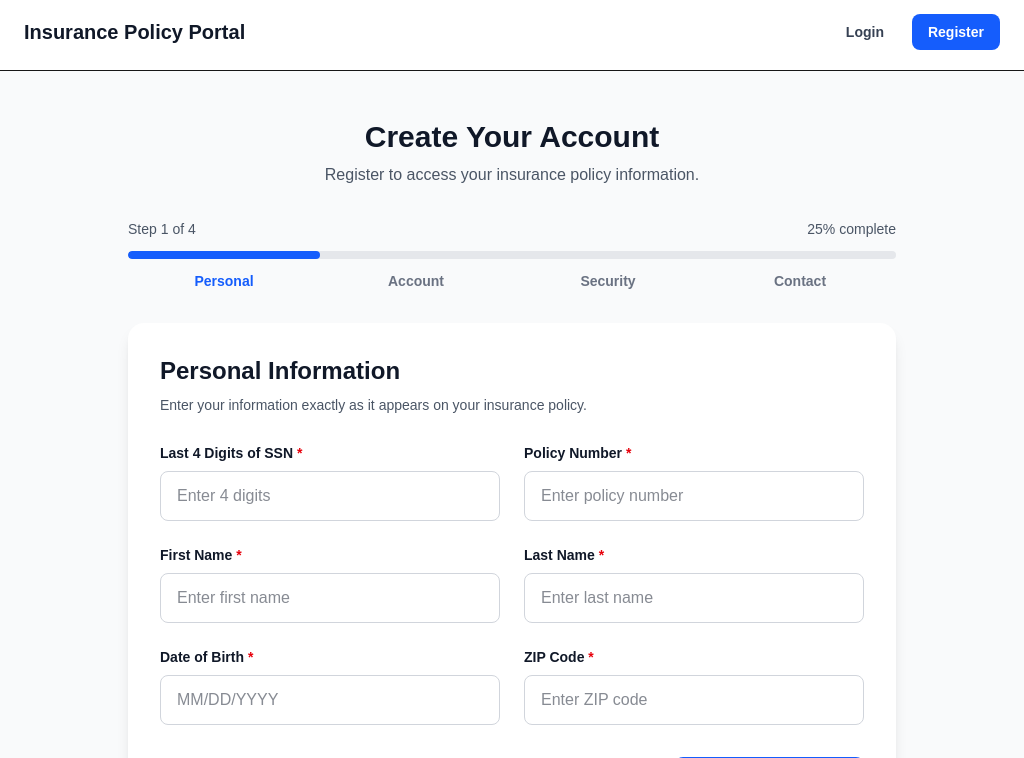
Scenario: RegisterPage - Step 1 › should move to Step 2 after successful policyholder verification
Type "1234" into the field with placeholder "Enter 4 digits" at [330, 496], box [160,471,500,521]
Type "VA6666667" into the field with placeholder "Enter policy number" at [694, 496], box [524,471,864,521]
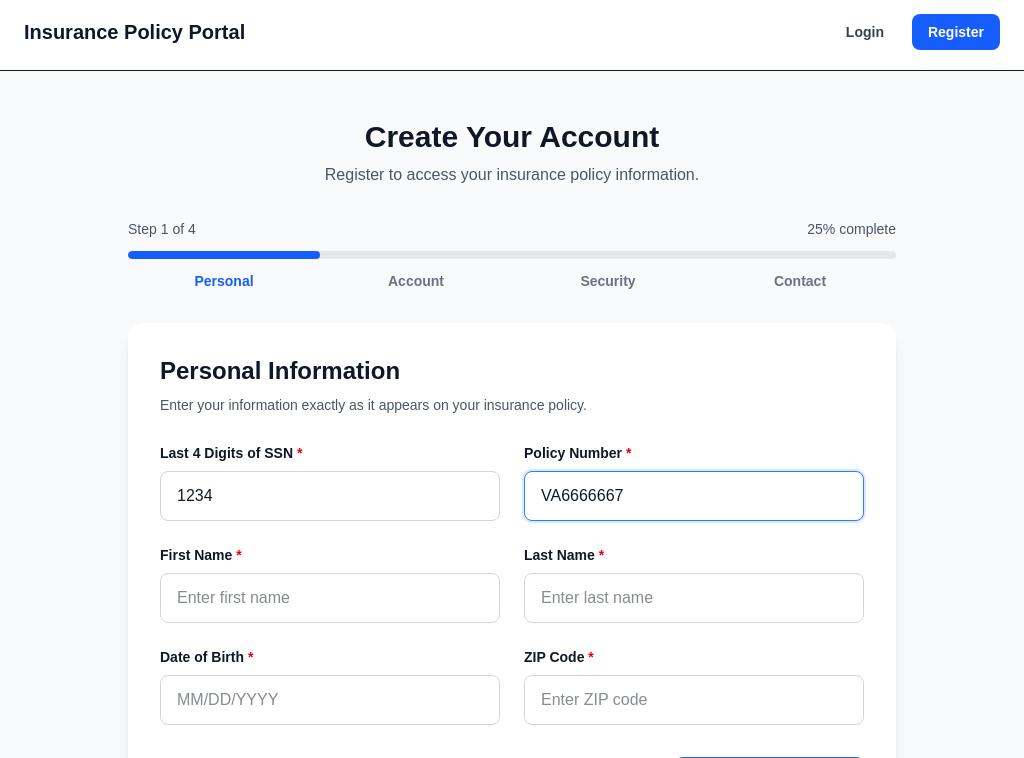
Type "John" into the field with placeholder "Enter first name" at [330, 598], box [160,573,500,623]
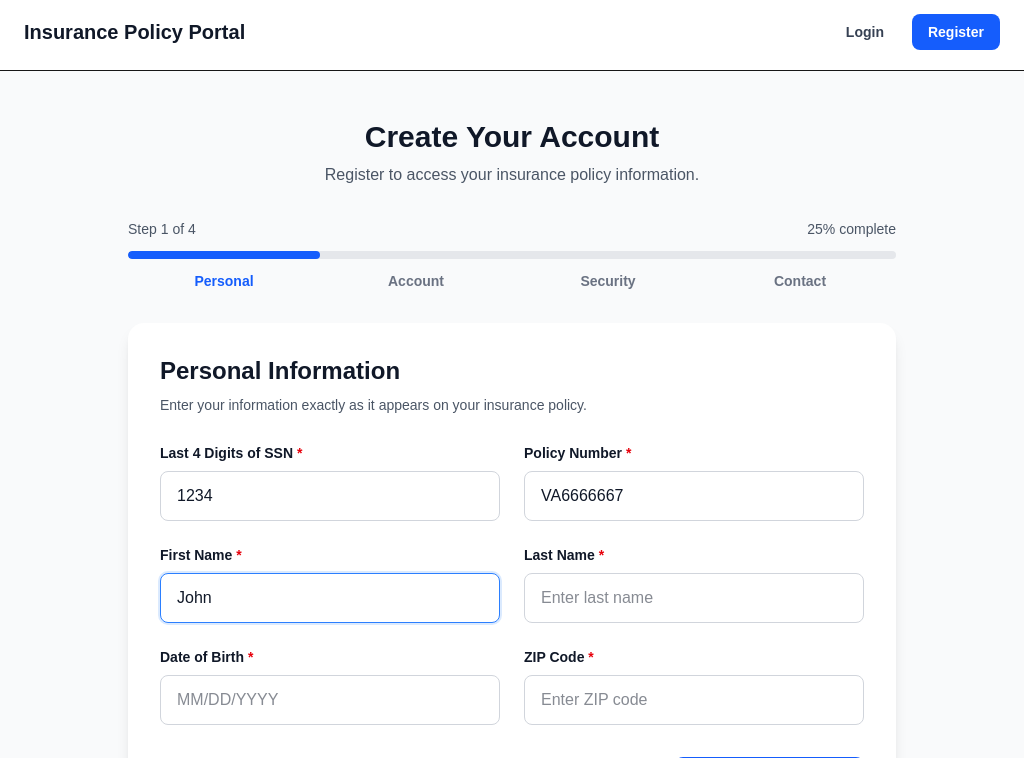
Type "Doe" into the field with placeholder "Enter last name" at [694, 598], box [524,573,864,623]
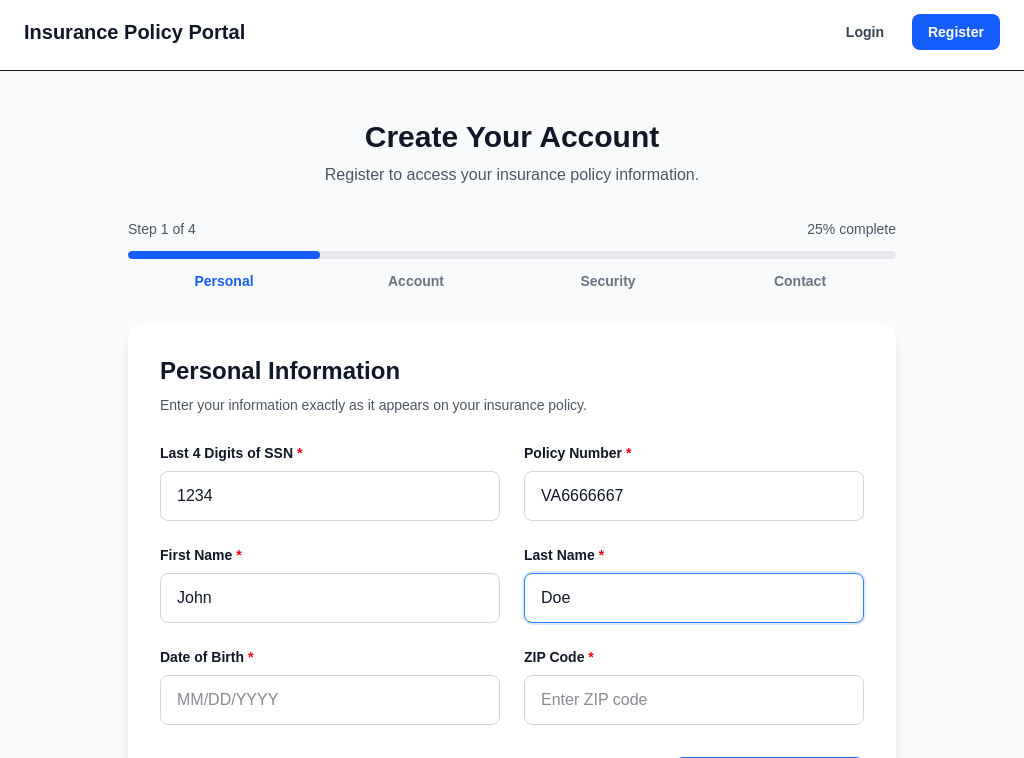
Type "01/15/1990" into the field with placeholder "MM/DD/YYYY" at [330, 700], box [160,675,500,725]
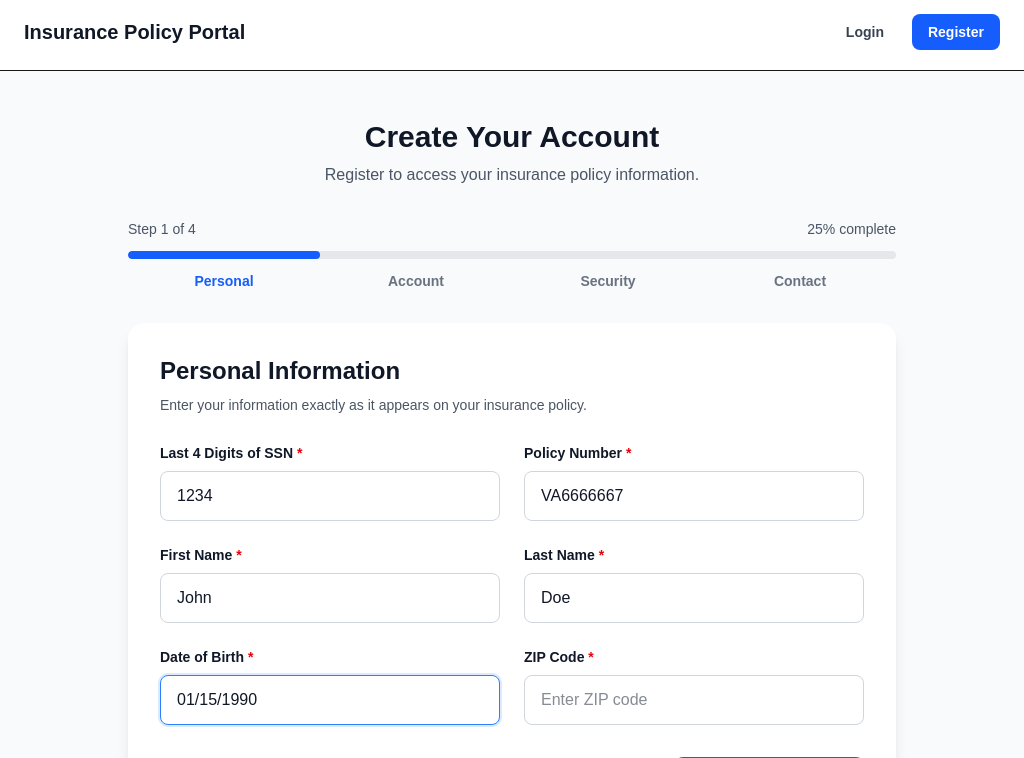
Type "12345" into the field with placeholder "Enter ZIP code" at [694, 700], box [524,675,864,725]
(page scrolled)
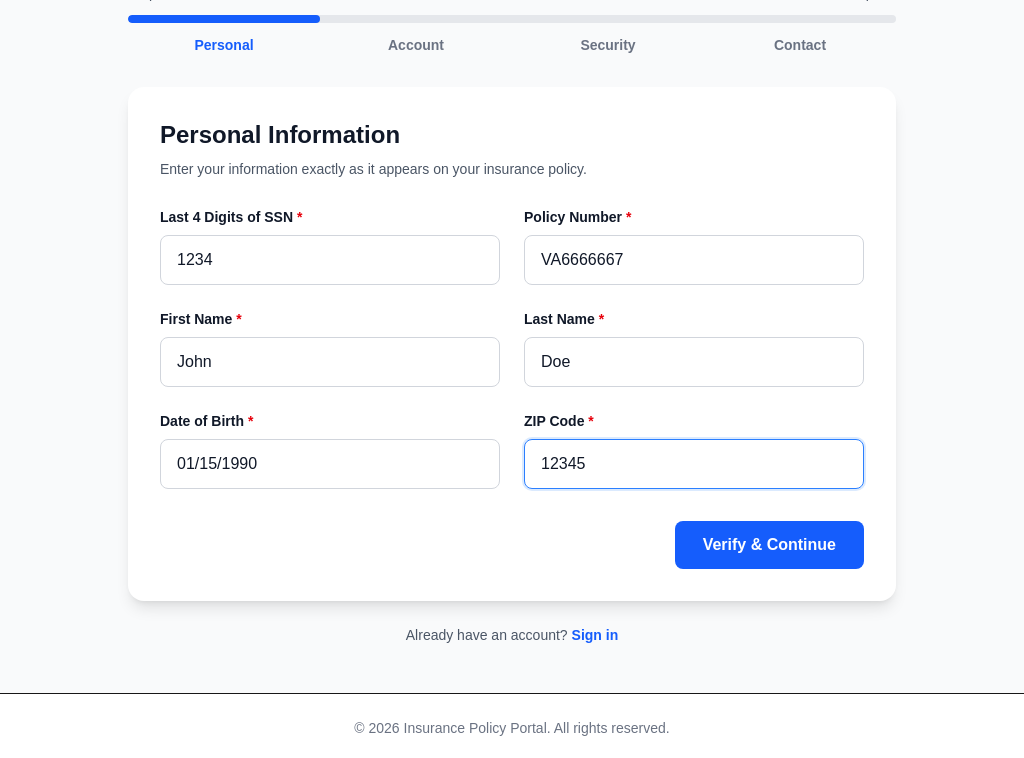
Click the button "Verify & Continue" at [769, 545], box [675,521,864,569]
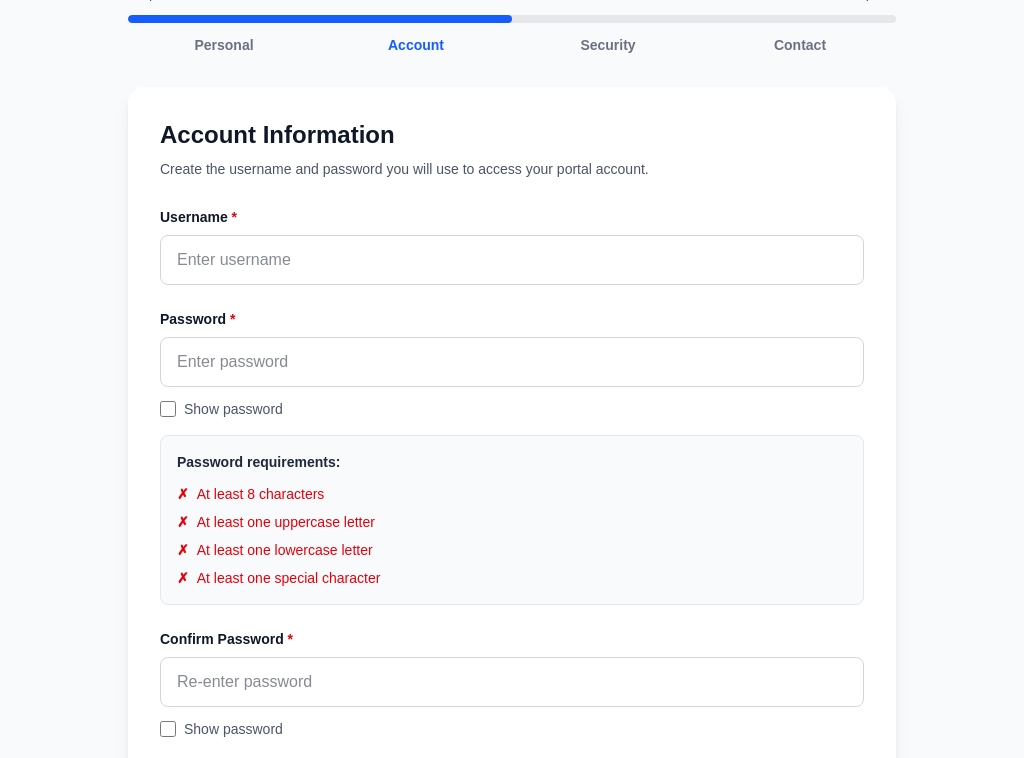
Check: the heading "Account Information" is shown, box [160,121,395,148]
Check: the field with placeholder "Enter username" is shown, box [160,235,864,285]
